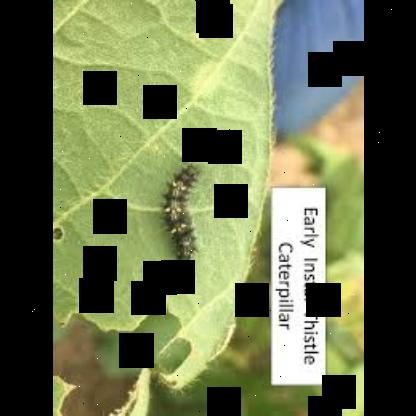oruga: (162, 161, 202, 267)
